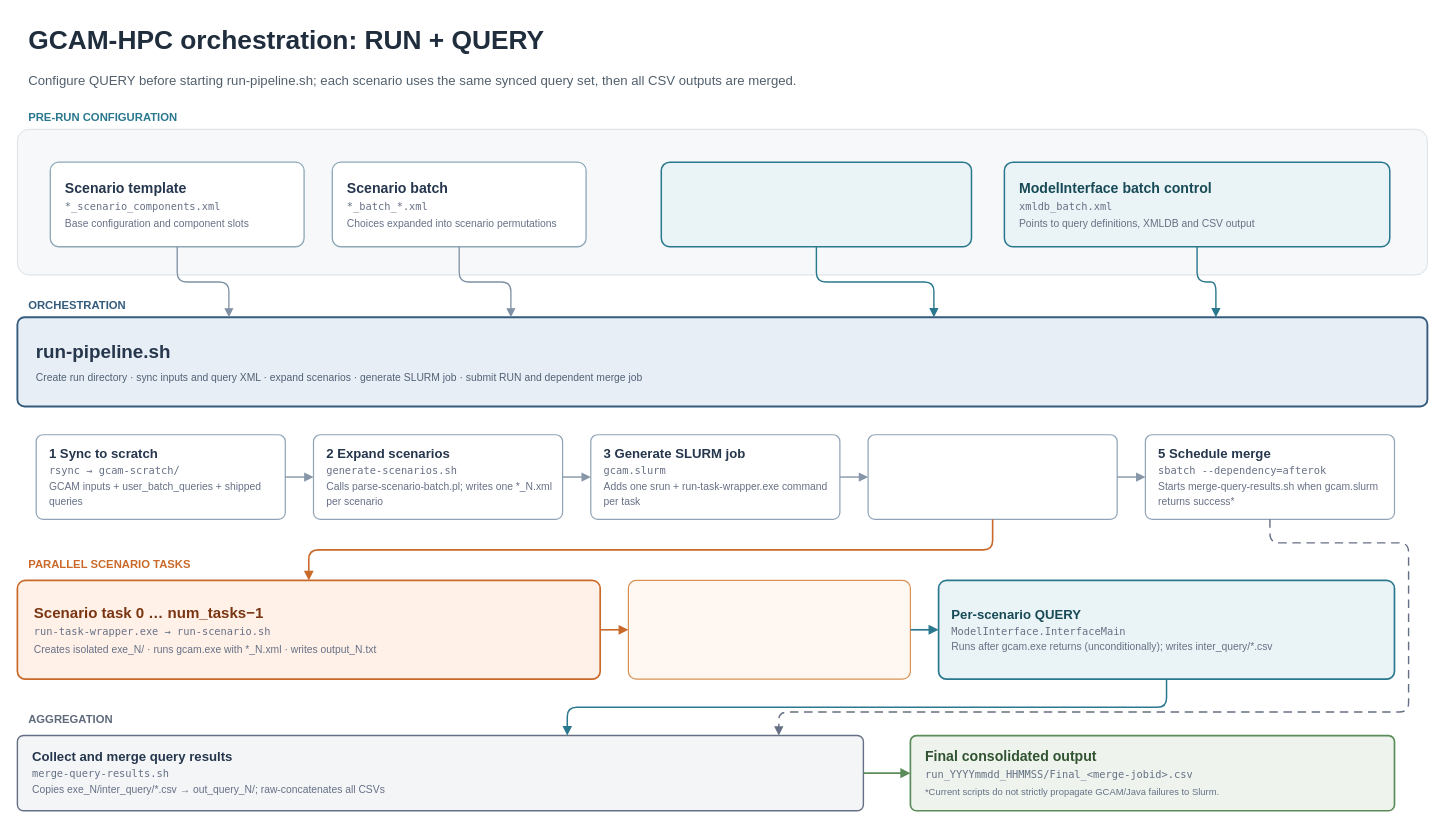
Some shapes in this 1444 by 827 pixel diagram are drawn without their labels. The centre of each missing label's shape, as x and y in pixels:
"4 Submit RUN sbatch gcam.slurm Parallel scenario tasks on the cluster" goes at pixel 992 477.
"Model run gcam.exe -C*_N.xml Produces XMLDB at exe_N/db/database_basexdb" goes at pixel 769 629.
"Query definitions output_queries_###_###.xml Query items and selected regions" goes at pixel 816 204.
